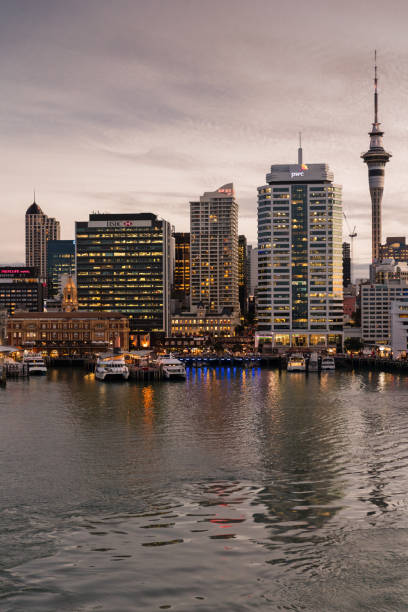ferry: (157, 352, 186, 378), (95, 357, 129, 379), (20, 353, 47, 374)
